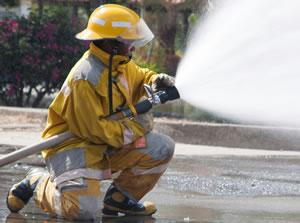helmet: (75, 3, 145, 42)
